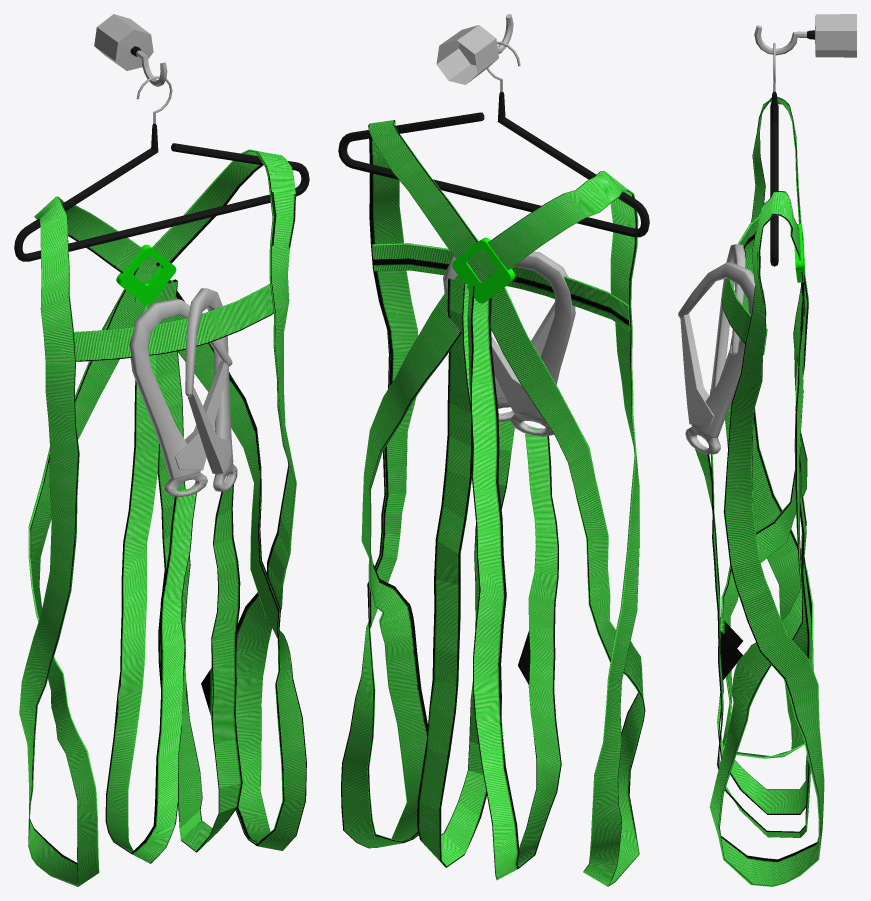
3 views of the same model, side by side, from view 1: azimuth 30°, elevation 25°; view 2: azimuth 150°, elevation 25°; view 3: azimuth 270°, elevation 25° (orthographic). The views are drawn at different scales.
Visible parts, largest first — view 1: ch_Harness, ch_Hook, Circle001, ch_Hook001, Circle002, ch_NGon001, ch_HookGate, ch_HookGate001; view 2: ch_Harness, Circle001, ch_Hook, Circle002, ch_NGon001, ch_HookGate, ch_HookGate001; view 3: ch_Harness, ch_Hook001, Circle002, ch_HookGate001, ch_Hook, Circle001, ch_NGon001.
Boxes of the visible parts, bbox=[...] form: ch_Harness: bbox=[19, 149, 306, 886]; ch_Hook: bbox=[129, 298, 232, 496]; Circle001: bbox=[14, 76, 309, 261]; ch_Hook001: bbox=[185, 288, 237, 491]; Circle002: bbox=[94, 14, 167, 86]; ch_NGon001: bbox=[116, 244, 176, 304]; ch_HookGate: bbox=[175, 360, 228, 470]; ch_HookGate001: bbox=[187, 388, 231, 473]; ch_Harness: bbox=[341, 120, 645, 886]; Circle001: bbox=[338, 41, 649, 237]; ch_Hook: bbox=[511, 251, 575, 436]; Circle002: bbox=[436, 14, 513, 84]; ch_NGon001: bbox=[452, 237, 515, 303]; ch_HookGate: bbox=[491, 335, 538, 413]; ch_HookGate001: bbox=[495, 302, 554, 398]; ch_Harness: bbox=[695, 96, 824, 886]; ch_Hook001: bbox=[678, 262, 766, 454]; Circle002: bbox=[754, 14, 856, 57]; ch_HookGate001: bbox=[680, 314, 714, 427]; ch_Hook: bbox=[711, 244, 745, 437]; Circle001: bbox=[770, 43, 778, 266]; ch_NGon001: bbox=[794, 223, 805, 282].
Bounding box in the file's own units: 418 × 1121 × 223.
